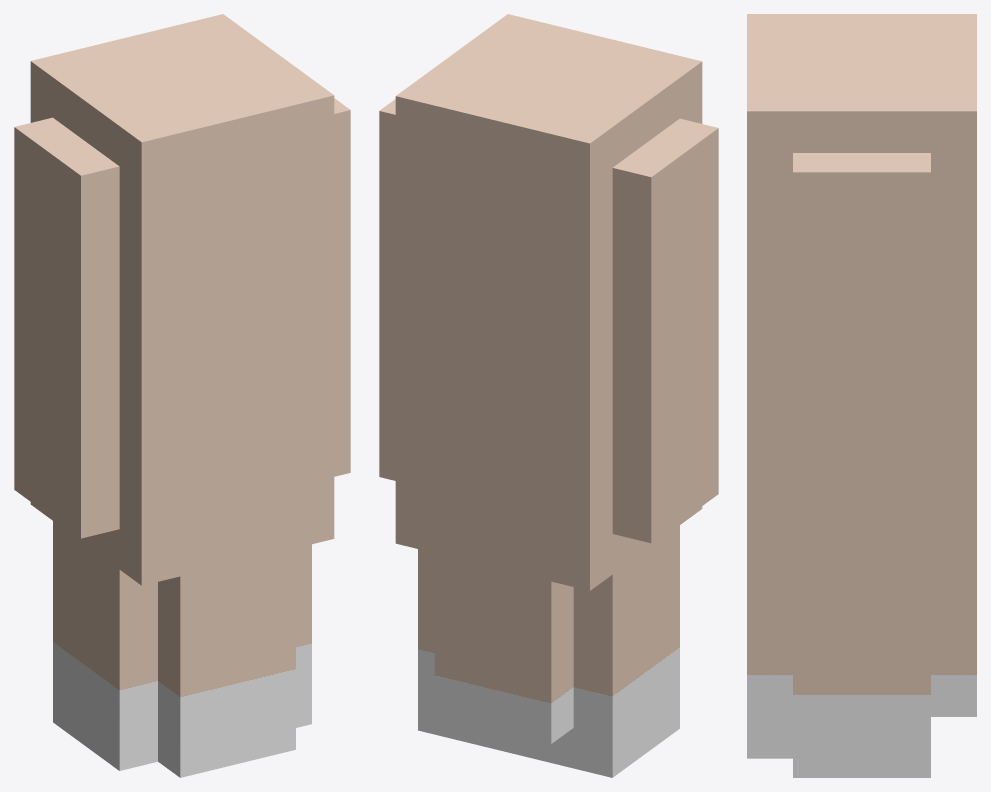
File: noga_d_gol.dae
3 renders of one model, left to right at view 1: azimuth 30°, elevation 25°; view 2: azimuth 150°, elevation 25°; view 3: azimuth 270°, elevation 25°, orthographic. The views are drawn at different scales.
Visible parts, largest first — view 1: Content; view 2: Content; view 3: Content.
Part boxes in pixels (x1=…): Content: x1=14, y1=14, x2=350, y2=777; Content: x1=379, y1=14, x2=718, y2=777; Content: x1=747, y1=14, x2=976, y2=777.
Bounding box in the file's own units: 7 × 16 × 5.
1 material, 1 textured.
